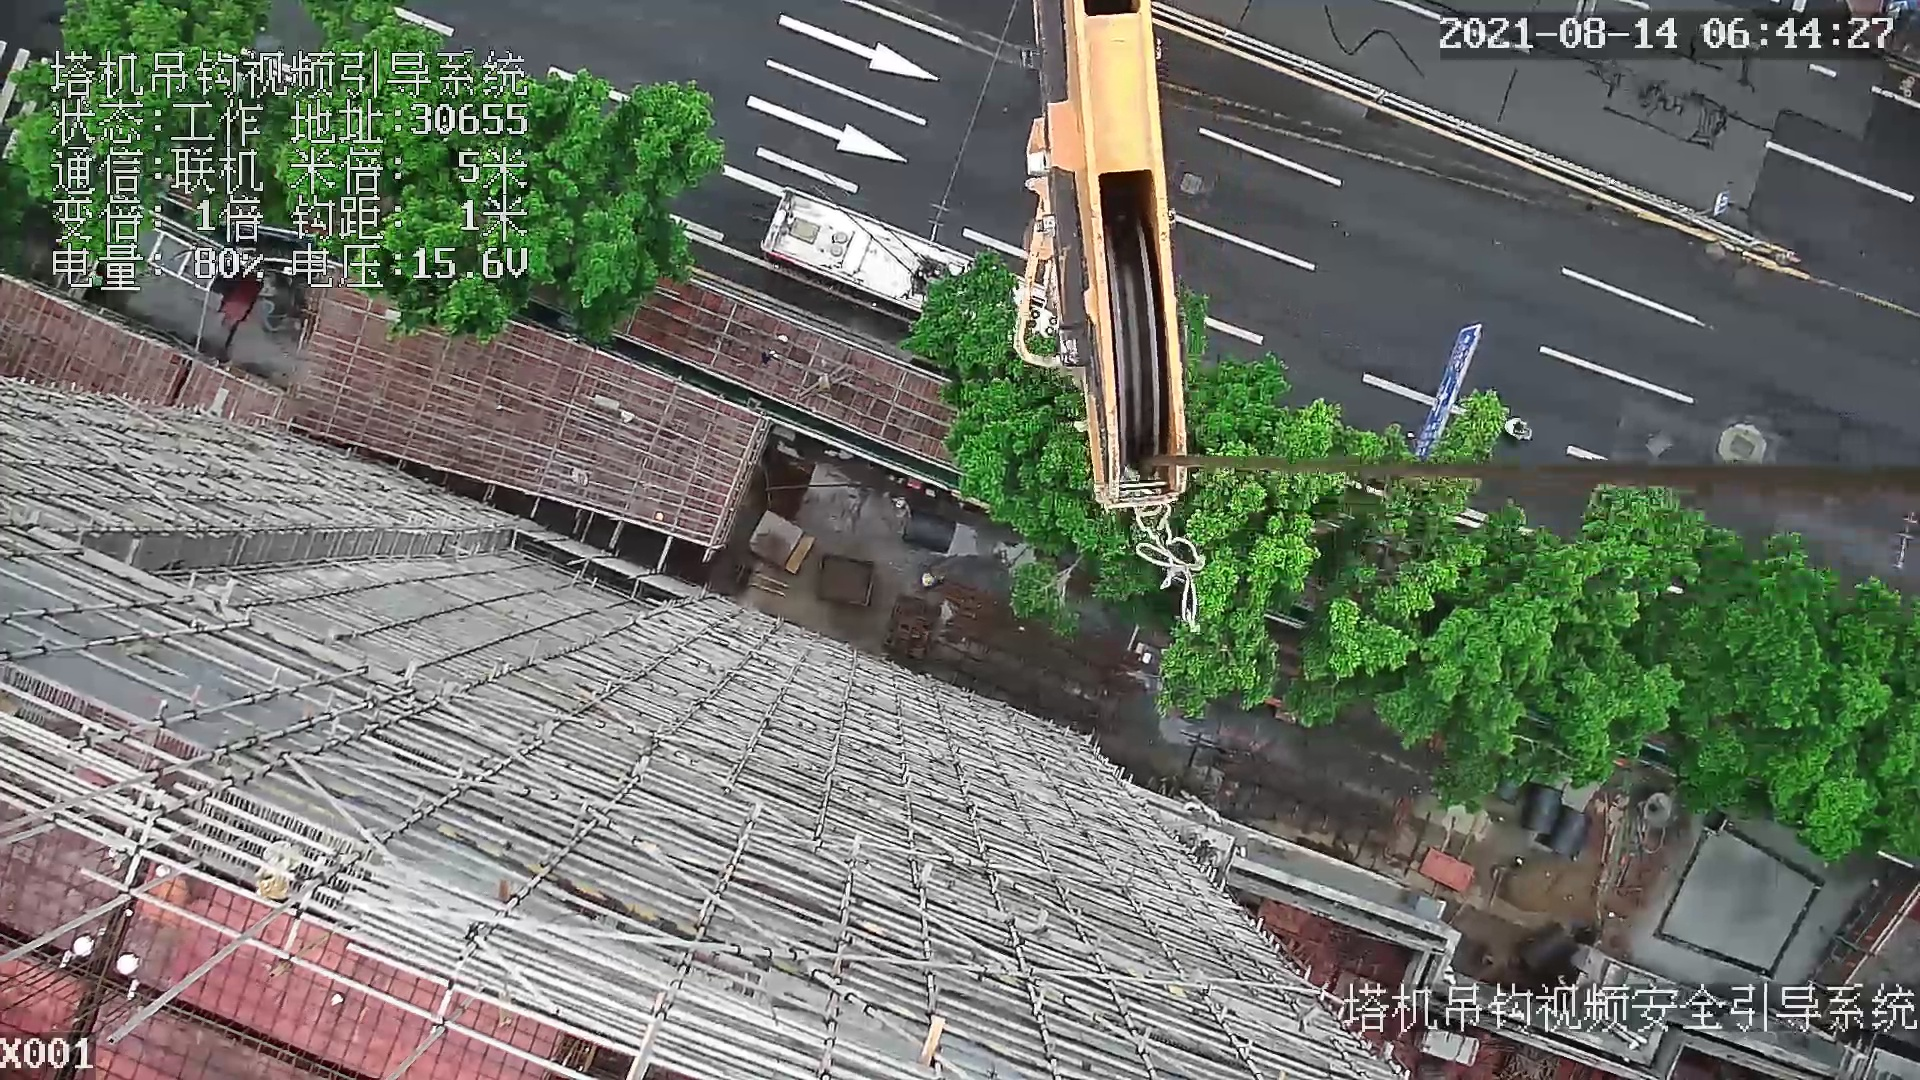hook: (999, 12, 1197, 512)
person: (890, 491, 913, 523)
